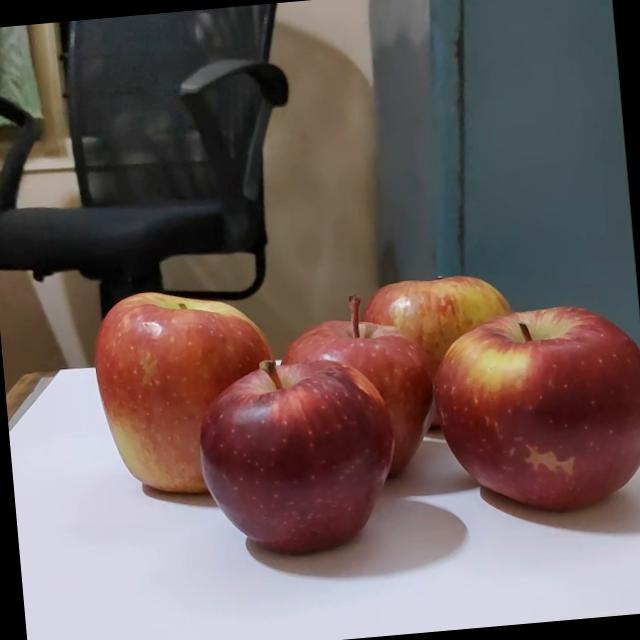apple: (411, 286, 640, 521), (170, 335, 398, 559), (84, 266, 292, 494), (270, 272, 447, 486), (358, 264, 538, 428)
